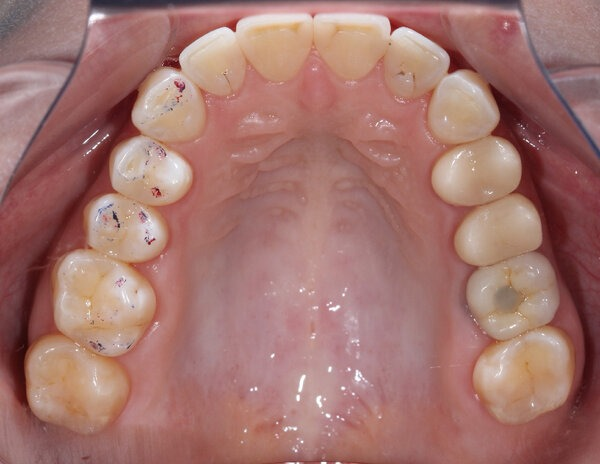UL1BC_healthy: (432, 136, 521, 200)
UL1M_decay: (466, 254, 561, 337)
UL2BC_healthy: (453, 200, 544, 263)
UL2M_healthy: (468, 332, 578, 426)
ULCI_healthy: (316, 11, 390, 85)
ULC_healthy: (428, 70, 498, 139)
ULLI_healthy: (388, 31, 445, 100)
UR1BC_decay: (110, 137, 193, 207)
UR1M_decay: (58, 254, 155, 354)
UR2BC_decay: (84, 197, 173, 257)
UR2M_healthy: (28, 341, 130, 431)
URCI_healthy: (239, 14, 315, 83)
URC_decay: (134, 74, 207, 140)
URLI_healthy: (181, 28, 248, 97)
